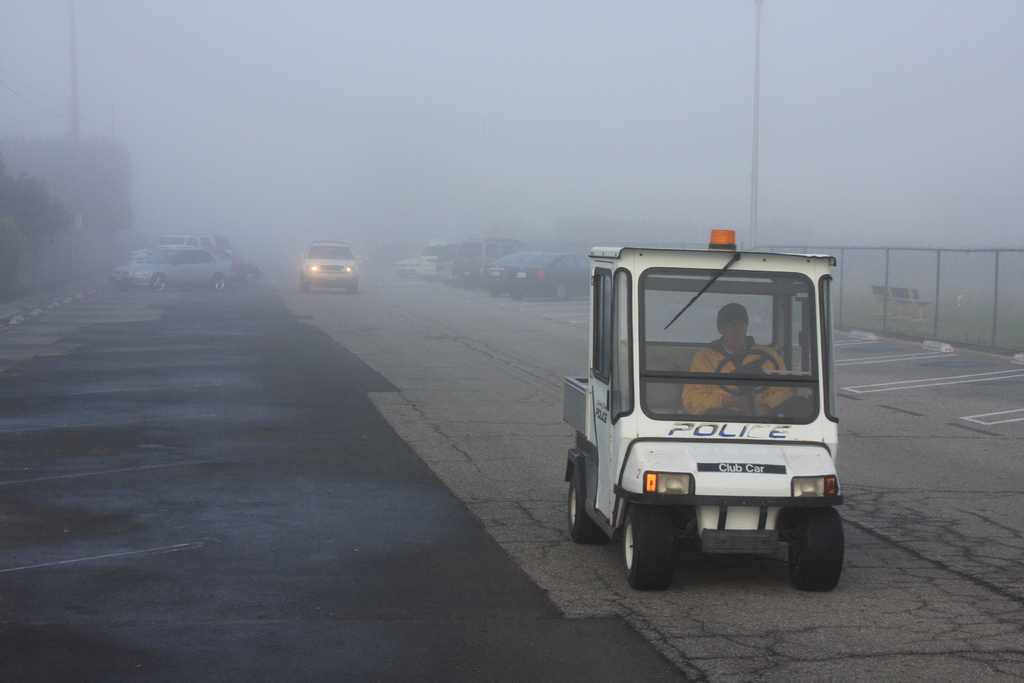Car: (125, 241, 251, 288), (286, 237, 361, 303), (506, 257, 583, 301), (476, 252, 526, 296)
